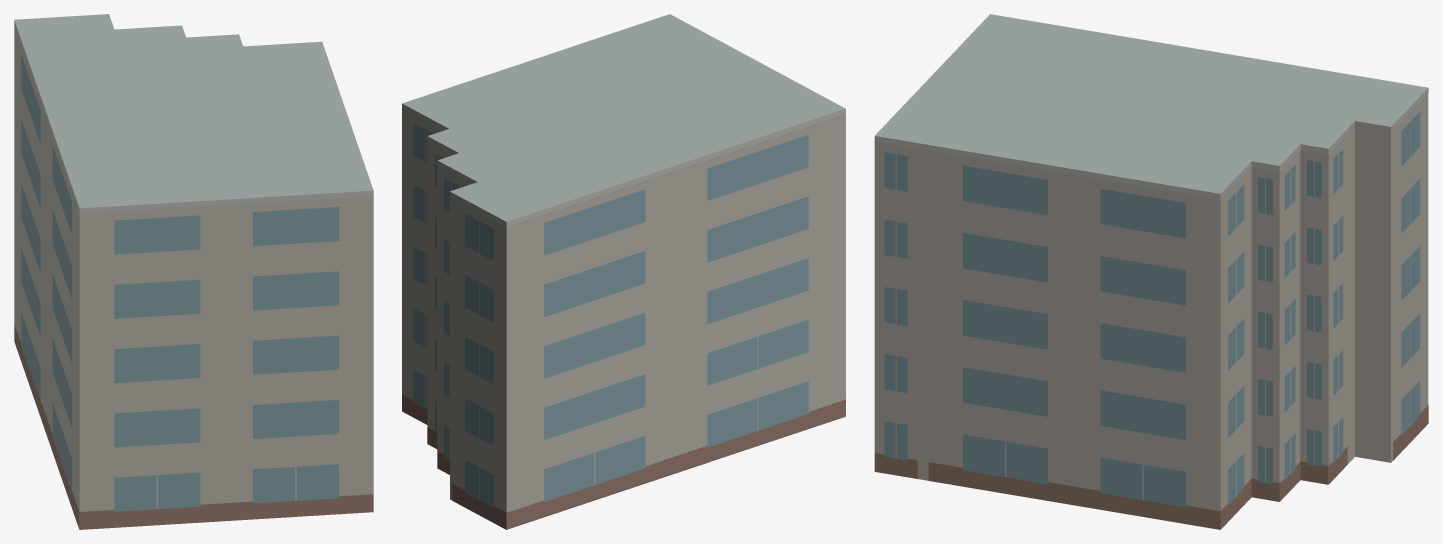
Rendered from survey-upis-32750512.glb.
3 renders of one model, left to right at view 1: azimuth 30°, elevation 25°; view 2: azimuth 150°, elevation 25°; view 3: azimuth 270°, elevation 25°, orthographic. The views are drawn at different scales.
Parts seen in each view (by area): view 1: survey-upis-32750512.tmp; view 2: survey-upis-32750512.tmp; view 3: survey-upis-32750512.tmp.
Boxes of the visible parts, left/top/right/bottom form: survey-upis-32750512.tmp: left=14, top=14, right=373, bottom=529; survey-upis-32750512.tmp: left=402, top=14, right=845, bottom=529; survey-upis-32750512.tmp: left=874, top=14, right=1428, bottom=529.
Size of the model in its own units: 16.78 by 14.6 by 21.83.
